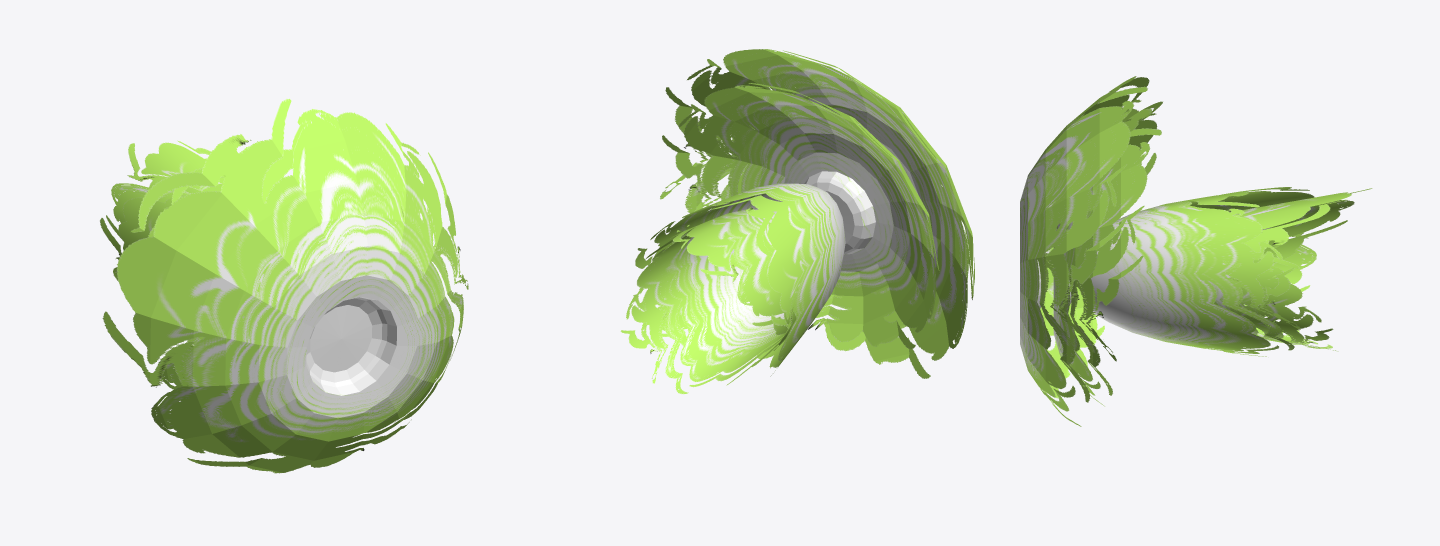
The model's file is ParagonStabEffectReal.fbx.
The picture shows the model from 3 angles, left to right: view 1: azimuth 30°, elevation 25°; view 2: azimuth 150°, elevation 25°; view 3: azimuth 270°, elevation 25°; orthographic projection. The views are drawn at different scales.
Visible parts, largest first — view 1: SmearImpactWave, SmearSheath; view 2: SmearImpactWave, SmearSheath; view 3: SmearSheath, SmearImpactWave.
Part boxes in pixels (box(x1,y1,x2,y2)): SmearImpactWave: box(102, 98, 468, 473); SmearSheath: box(100, 140, 223, 281); SmearImpactWave: box(660, 49, 974, 378); SmearSheath: box(620, 183, 845, 394); SmearSheath: box(1091, 187, 1372, 356); SmearImpactWave: box(1020, 76, 1162, 426).
Bounding box in the file's own units: 1459 × 1459 × 1151.
Materials: 1 (1 with a texture image).
